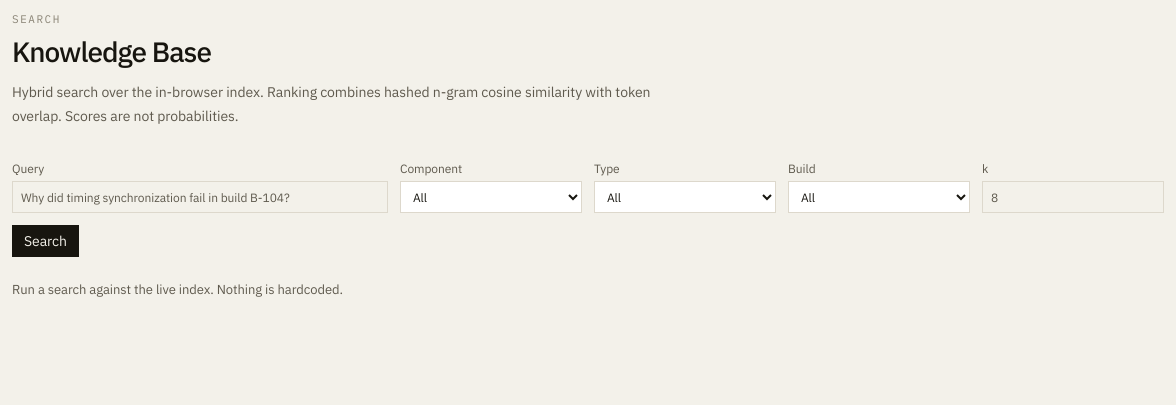
Scenario: KnowledgeBasePage › renders live hits after search
The width and height of the screenshot is (1176, 405).
Click the button "Search" at {"x": 46, "y": 241}, box [12, 225, 79, 257]
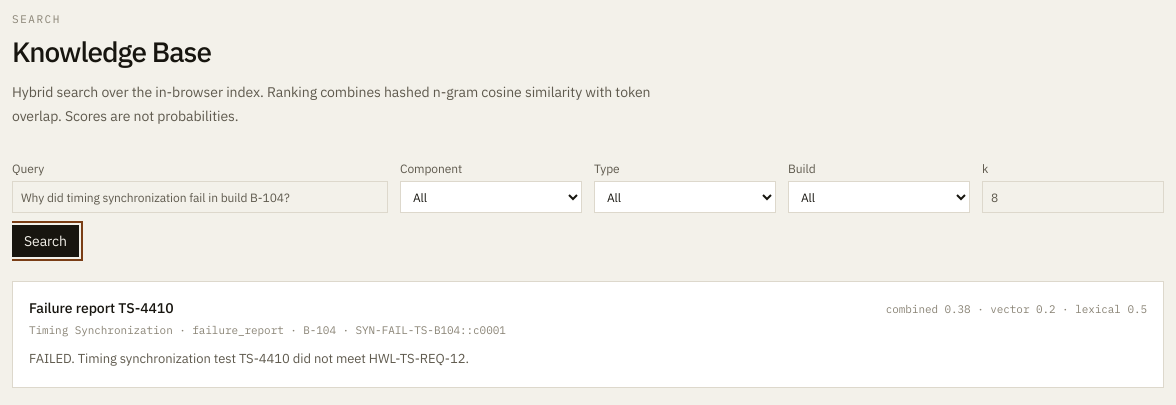
expect the text "did not meet HWL-TS-REQ-12" is shown: met, box [29, 350, 469, 367]
